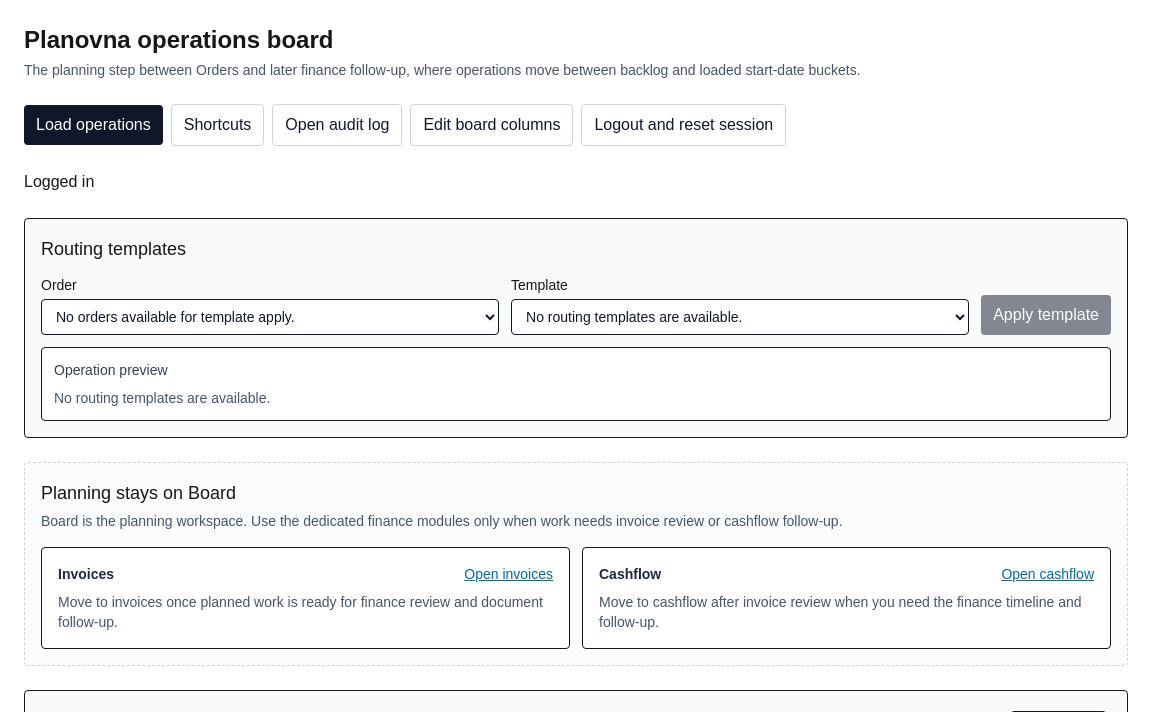
Test: extracted shared workspace harness › shows shortcut discovery with only existing safe board actions
Step 1. Click the button "Shortcuts" → (218, 125), box [171,104,264,146]
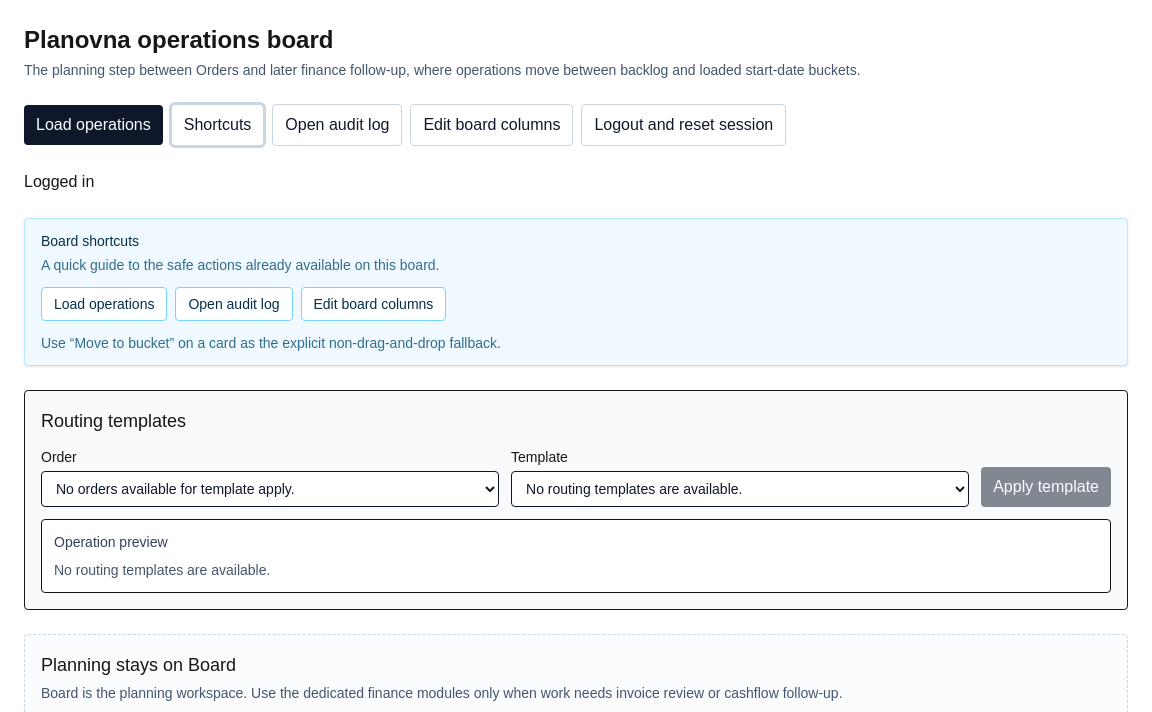
Expected: the 1st button "Load operations" is shown, [24,105,163,145]
Expected: the element "Board shortcuts" is shown, [24,218,1128,366]
Expected: the text "Use “Move to bucket” on a card as the explicit non-drag-and-drop fallback." is shown, [41,335,501,351]
